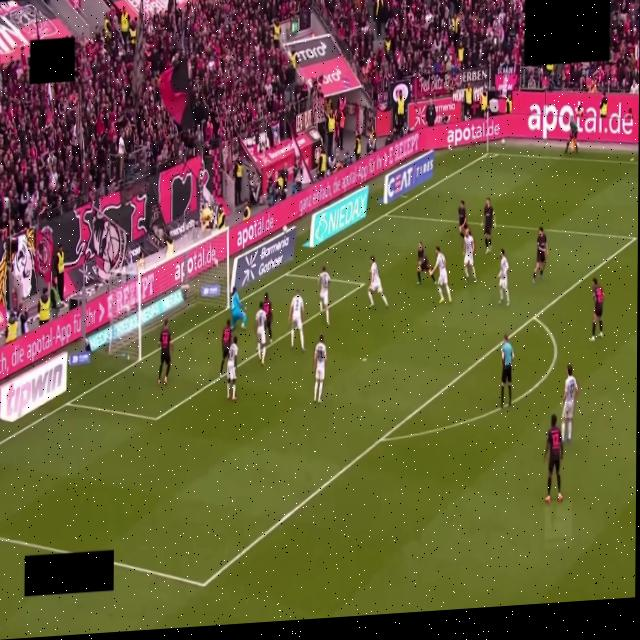ball: (282, 225, 287, 233)
player: (544, 415, 562, 503), (561, 364, 579, 443), (431, 247, 451, 304), (368, 255, 388, 308), (288, 291, 304, 352), (158, 320, 172, 384), (590, 278, 604, 341), (533, 227, 548, 283), (314, 334, 326, 403), (463, 227, 477, 282), (481, 198, 495, 253), (417, 243, 435, 284), (255, 302, 266, 365), (231, 287, 247, 328), (319, 266, 330, 325), (498, 248, 509, 306), (227, 336, 237, 399), (220, 320, 231, 376), (264, 293, 272, 343), (458, 201, 467, 237)
referee: (501, 335, 514, 407)
